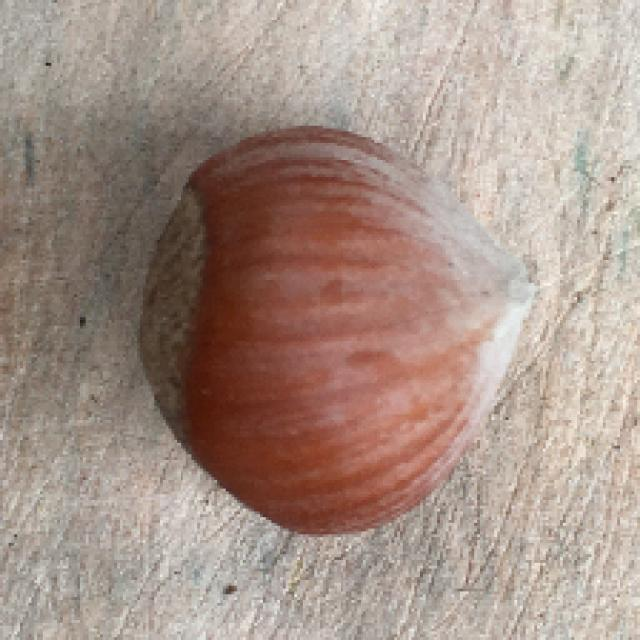qualityHazelnut: (130, 124, 540, 548)
